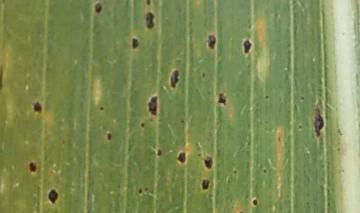tarspot: (312, 106, 324, 136), (148, 94, 158, 116), (169, 68, 179, 88), (47, 187, 59, 203), (145, 11, 155, 30), (242, 39, 252, 54), (207, 33, 216, 49), (203, 155, 213, 169), (177, 151, 187, 164), (217, 92, 227, 105), (32, 101, 42, 113), (27, 160, 37, 172), (200, 177, 209, 190), (131, 35, 139, 49), (94, 1, 102, 14), (260, 166, 268, 174), (106, 131, 112, 141), (336, 125, 342, 135), (1, 61, 3, 89), (252, 197, 258, 206), (157, 147, 162, 157), (98, 104, 105, 111), (196, 150, 203, 157), (231, 168, 238, 175), (200, 70, 206, 78), (145, 1, 152, 7), (143, 185, 149, 192), (263, 93, 269, 100), (299, 94, 305, 101), (140, 120, 145, 128), (138, 185, 142, 195), (336, 145, 341, 153), (297, 123, 303, 129), (180, 117, 185, 124), (238, 209, 244, 213)
